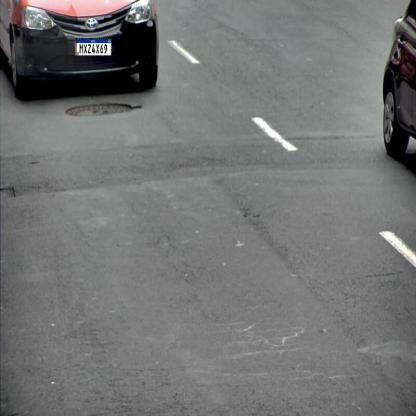PlacaM: (76, 38, 112, 56)
